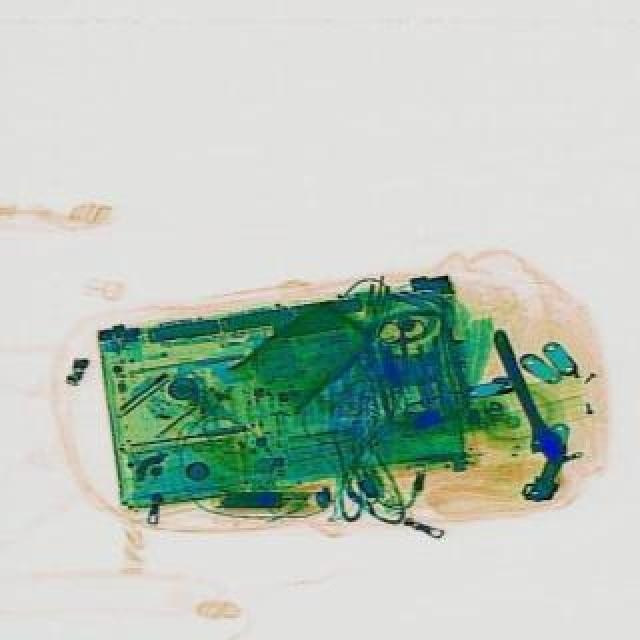scissors: (476, 322, 568, 470)
